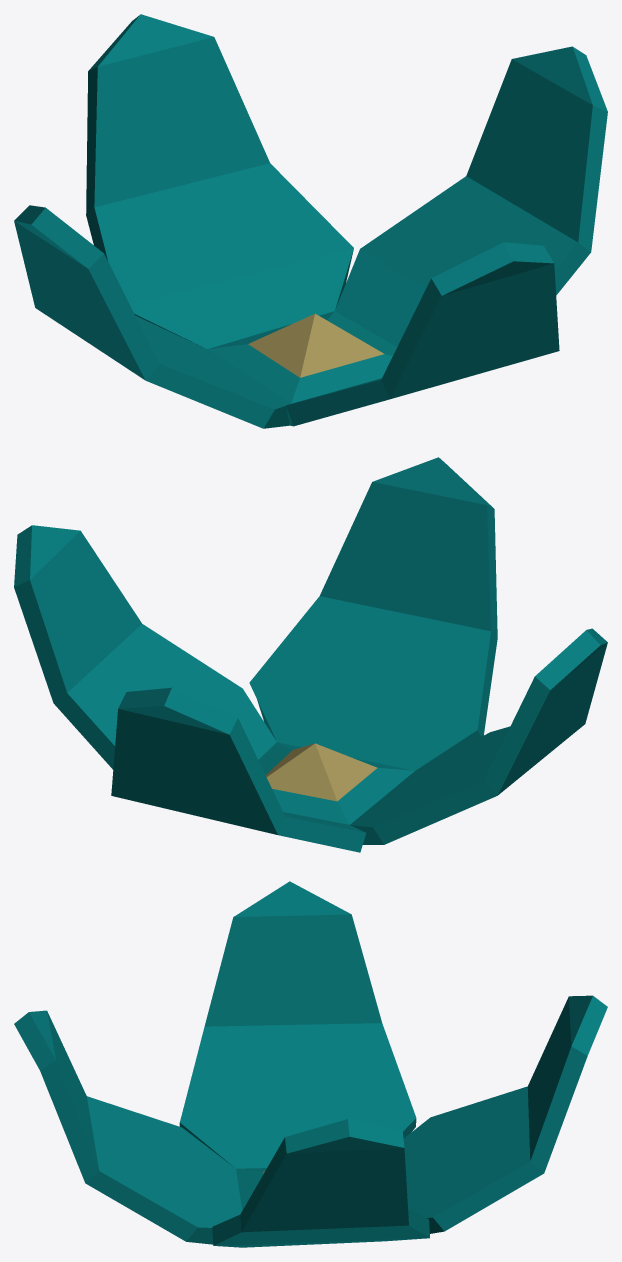
File: Flowers_Crop.glb
3 views of the same model, one above another, from view 1: azimuth 30°, elevation 25°; view 2: azimuth 150°, elevation 25°; view 3: azimuth 270°, elevation 25° (orthographic). The views are drawn at different scales.
Visible parts, largest first — view 1: Cyan, Yellow; view 2: Cyan, Yellow; view 3: Cyan.
Part boxes in pixels (left/top/right/bottom): Cyan: left=14, top=14, right=607, bottom=428; Yellow: left=248, top=314, right=383, bottom=377; Cyan: left=14, top=457, right=607, bottom=852; Yellow: left=266, top=743, right=377, bottom=801; Cyan: left=14, top=881, right=607, bottom=1247.
Size of the model in its own units: 0.2918 by 0.1162 by 0.2926.
